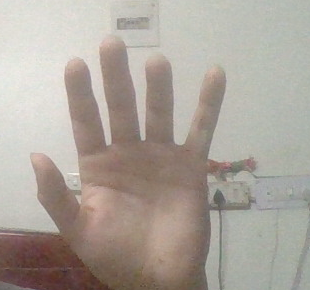move: (32, 28, 231, 288)
